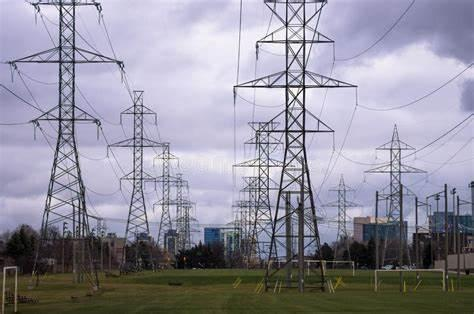power_tower: (9, 0, 126, 298), (233, 0, 341, 292), (109, 85, 161, 267), (373, 124, 426, 270), (242, 116, 279, 263), (151, 139, 180, 265)
